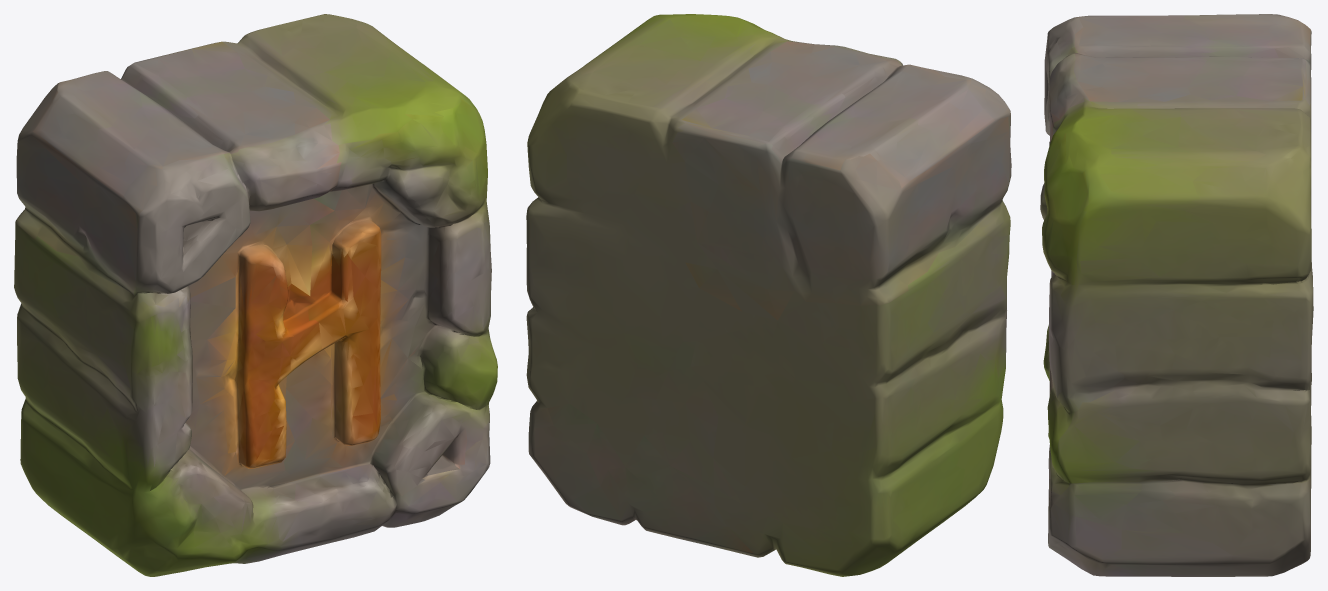
File: bloque_runa_naranja.glb
3 renders of one model, left to right at view 1: azimuth 30°, elevation 25°; view 2: azimuth 150°, elevation 25°; view 3: azimuth 270°, elevation 25°, orthographic.
Visible parts, largest first — view 1: bloque_runa_naranja_malla; view 2: bloque_runa_naranja_malla; view 3: bloque_runa_naranja_malla.
Part boxes in pixels (left/top/right/bottom): bloque_runa_naranja_malla: left=14, top=14, right=497, bottom=576; bloque_runa_naranja_malla: left=526, top=14, right=1011, bottom=576; bloque_runa_naranja_malla: left=1040, top=14, right=1313, bottom=576.
Size of the model in its own units: 0.158 by 0.1781 by 0.104.
Materials: 1 (1 with a texture image).
